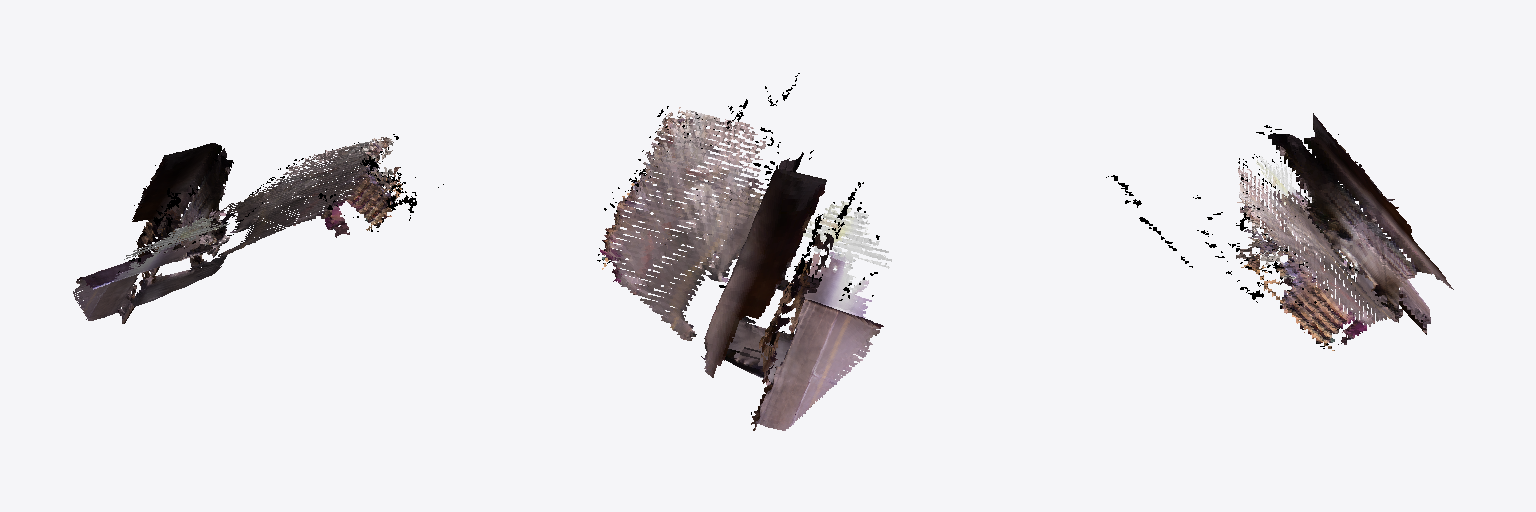
3 renders of one model, left to right at view 1: azimuth 30°, elevation 25°; view 2: azimuth 150°, elevation 25°; view 3: azimuth 270°, elevation 25°, orthographic.
Bounding box in the file's own units: 8.06 × 5.59 × 8.25.
1 materials, 1 textured.